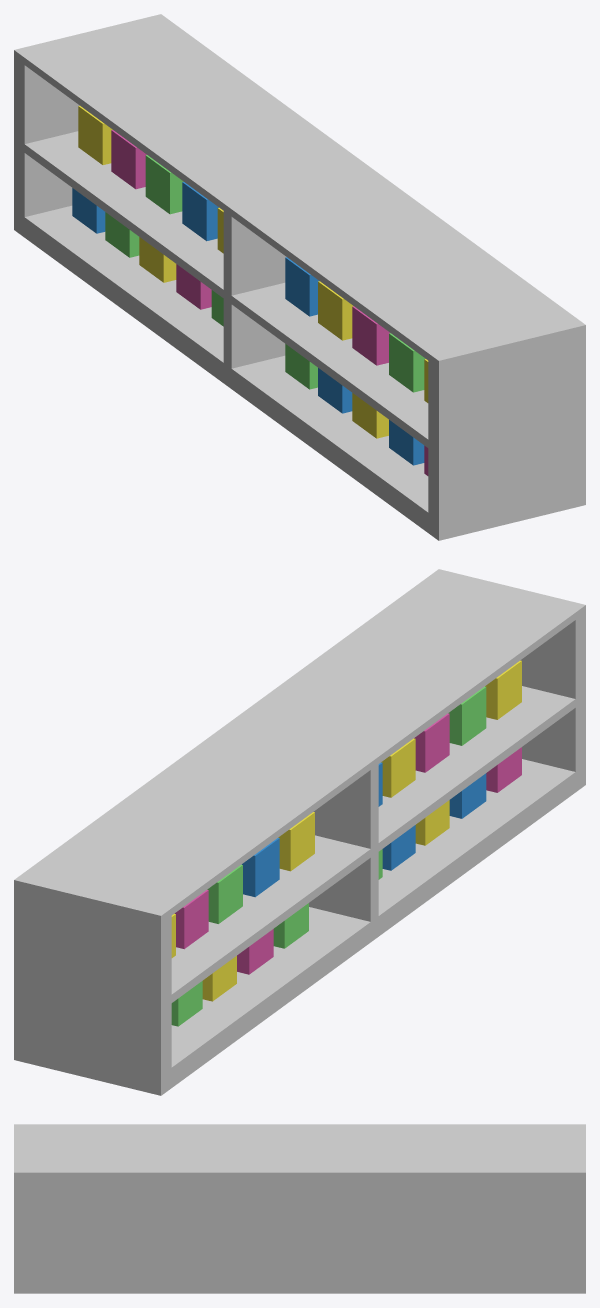
Rendered from Mueble.fbx.
The picture shows the model from 3 angles, top to bottom: view 1: azimuth 30°, elevation 25°; view 2: azimuth 150°, elevation 25°; view 3: azimuth 270°, elevation 25°; orthographic projection. The views are drawn at different scales.
Visible parts, largest first — view 1: Cube; view 2: Cube; view 3: Cube.
Boxes of the visible parts, x1,y1,x2,y2 form: Cube: (14,14,585,540); Cube: (14,569,585,1095); Cube: (14,1124,585,1293).
Bounding box in the file's own units: 200 × 234 × 1000.
